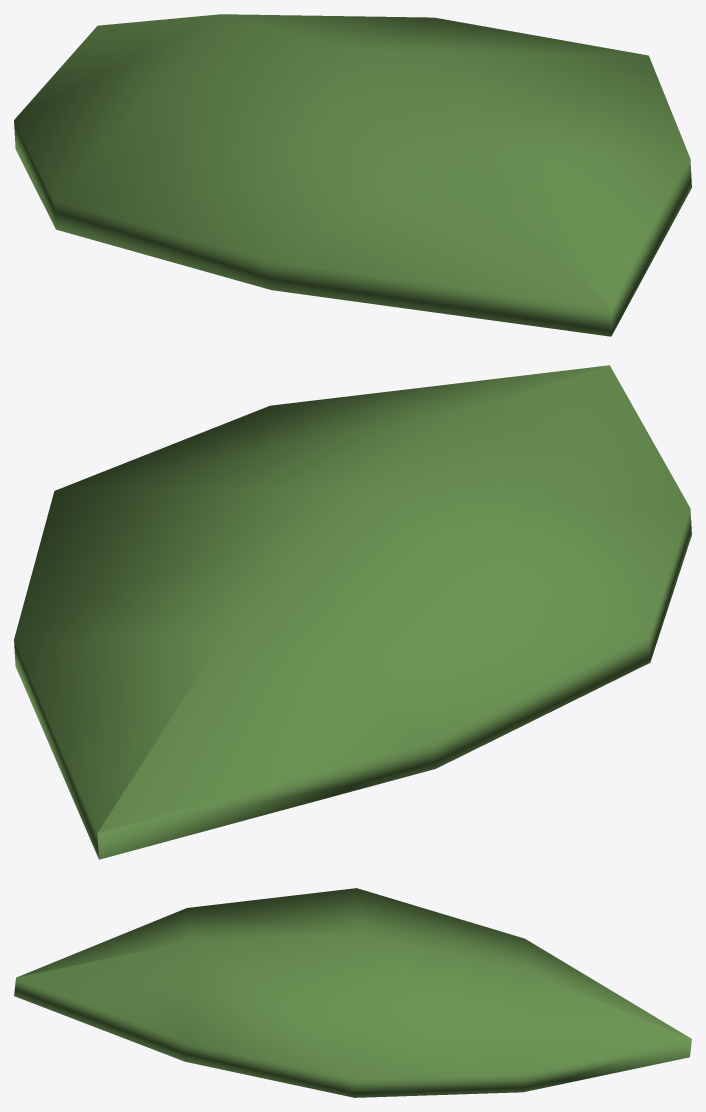
Rendered from mission_tree_leaf.glb.
3 views of the same model, one above another, from view 1: azimuth 30°, elevation 25°; view 2: azimuth 150°, elevation 25°; view 3: azimuth 270°, elevation 25° (orthographic). The views are drawn at different scales.
Visible parts, largest first — view 1: Crown Leaf weather; view 2: Crown Leaf weather; view 3: Crown Leaf weather.
Part boxes in pixels (x1=…): Crown Leaf weather: x1=14, y1=14, x2=691, y2=336; Crown Leaf weather: x1=14, y1=365, x2=691, y2=859; Crown Leaf weather: x1=14, y1=888, x2=691, y2=1097.
Bounding box in the file's own units: 0.2 × 0.0597 × 0.2994.
